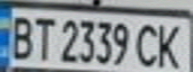2: (54, 15, 81, 63)
3: (93, 18, 115, 65), (75, 16, 96, 64)
9: (109, 18, 136, 66)
B: (3, 11, 39, 61)
C: (133, 19, 163, 69)
K: (151, 20, 187, 70)
T: (27, 12, 57, 62)
